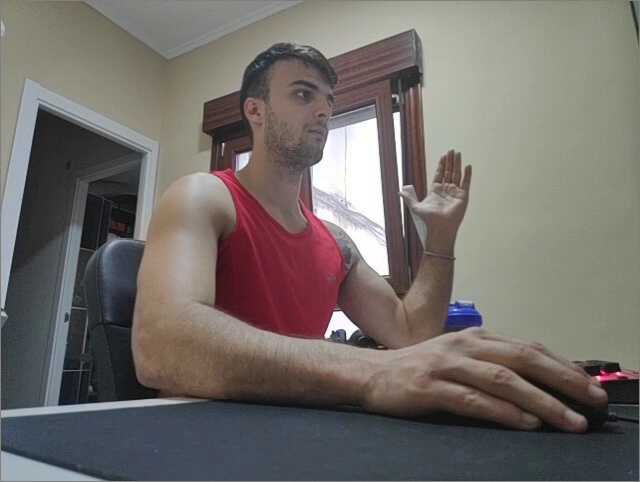Palm: (396, 148, 473, 228)
